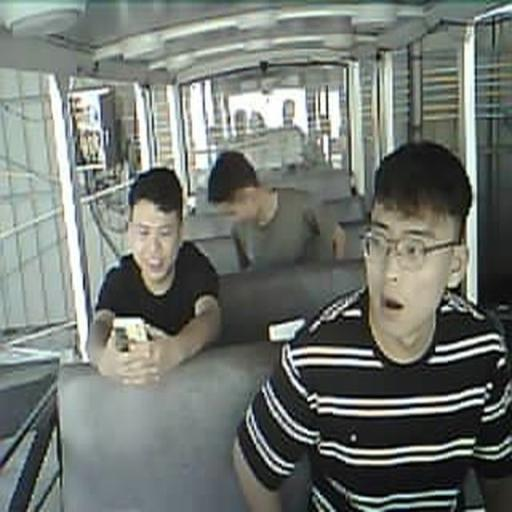persona: (232, 139, 512, 511), (90, 166, 223, 388), (208, 149, 346, 272)
